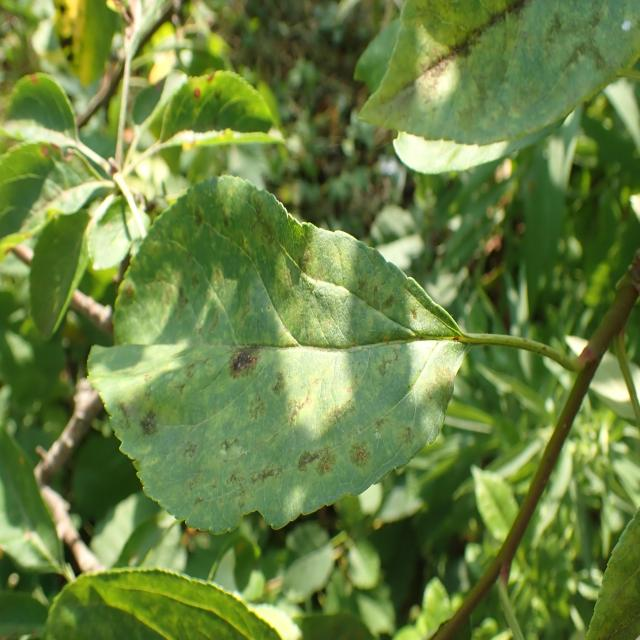scab: (89, 190, 467, 508), (357, 0, 632, 153)
